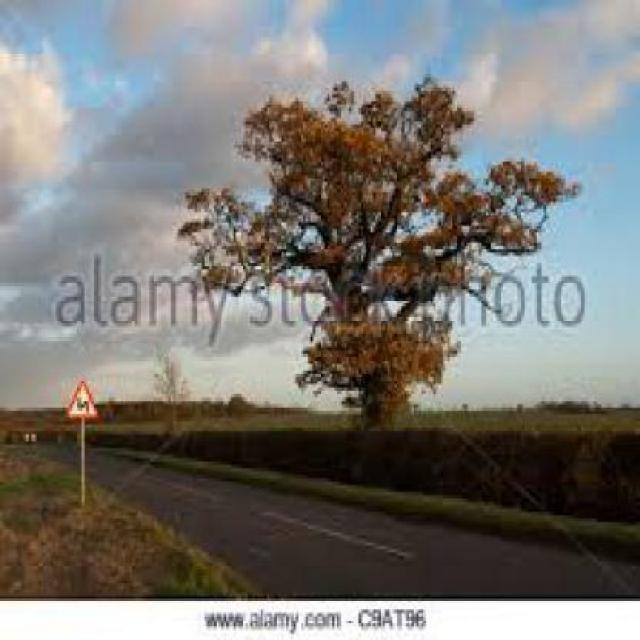warn_double_curve: (60, 380, 102, 422)
